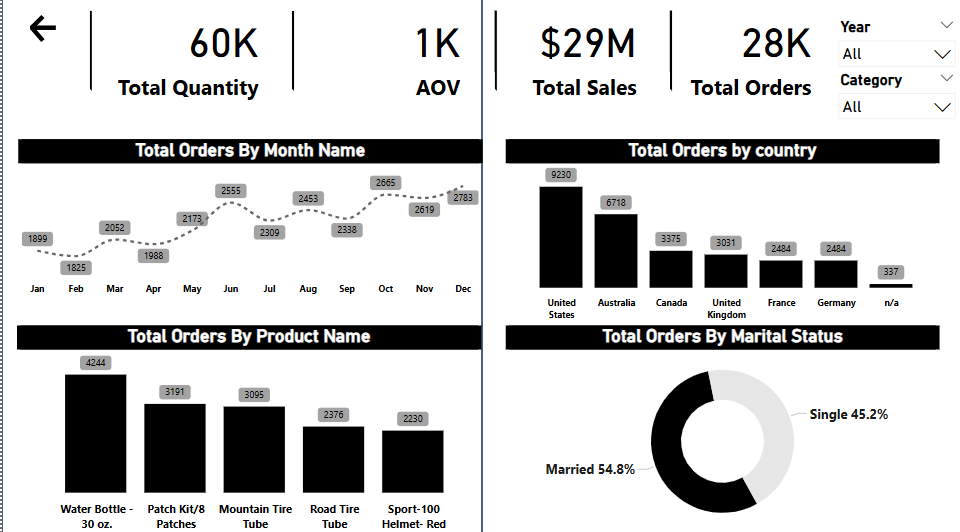

This screenshot's page, from the dashboard's own definition file:
{"tool":"powerbi","page":{"name":"Orders","canvas":[1280,720],"ordinal":2},"visuals":[{"type":"shape","box":[640,0,640,720],"z":0},{"type":"shape","box":[0,0,640,720],"z":1000},{"type":"cardVisual","fields":{"Data":["_Measures.Total Sales","_Measures.Total Orders"]},"box":[639.4,0,468.6,158.3],"z":2000},{"type":"cardVisual","fields":{"Data":["_Measures.Total Quantity","_Measures.Average Order Value"]},"box":[100.3,0,540.6,158.3],"z":3000},{"type":"actionButton","box":[31.7,0,136.7,81.7],"z":4000},{"type":"lineChart","title":"Total Orders By Month Name","fields":{"Y":["_Measures.Total Orders"],"Category":["dim_calender.Month_Name"]},"box":[21.9,188.1,619,217.8],"z":5000},{"type":"donutChart","title":"Total Orders By Marital Status","fields":{"Y":["_Measures.Total Orders"],"Category":["dim_customers.marital_status"]},"box":[672.3,437.2,578.3,282.1],"z":6000},{"type":"clusteredColumnChart","fields":{"Y":["_Measures.Total Orders"],"Category":["dim_customers.country"]},"box":[672.3,188.1,578.3,249.2],"z":7000},{"type":"clusteredColumnChart","title":"Total Orders By Product Name","fields":{"Y":["_Measures.Total Orders"],"Category":["dim_products.product_name"]},"box":[20.4,437.2,619,282.1],"z":8000},{"type":"slicer","fields":{"Values":["dim_calender.Year"]},"box":[1104.3,22,176,70.1],"z":9000},{"type":"slicer","fields":{"Values":["dim_products.category_name"]},"box":[1104.3,92.1,176,70.1],"z":10000}]}

Visuals, with their boxes in screenshot pixels (x1, y1, x2, y2), scaled from the page's 1280x720 canvas onto the 960x532 screenshot:
shape: rect(480, 0, 959, 531)
shape: rect(0, 0, 480, 531)
cardVisual - _Measures.Total Sales x _Measures.Total Orders: rect(480, 0, 831, 117)
cardVisual - _Measures.Total Quantity x _Measures.Average Order Value: rect(75, 0, 481, 117)
actionButton: rect(24, 0, 126, 60)
"Total Orders By Month Name" lineChart: rect(16, 139, 481, 300)
"Total Orders By Marital Status" donutChart: rect(504, 323, 938, 531)
clusteredColumnChart - _Measures.Total Orders x dim_customers.country: rect(504, 139, 938, 323)
"Total Orders By Product Name" clusteredColumnChart: rect(15, 323, 480, 531)
slicer - dim_calender.Year: rect(828, 16, 959, 68)
slicer - dim_products.category_name: rect(828, 68, 959, 120)
